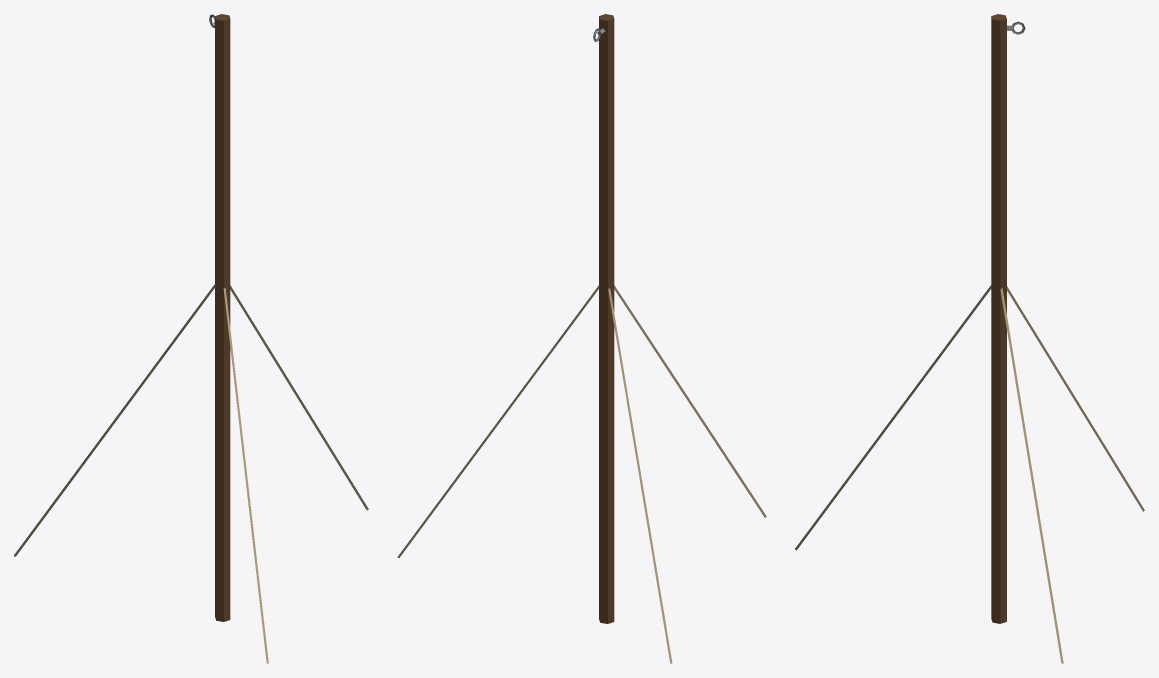
The model's file is string_pole.glb.
The picture shows the model from 3 angles, left to right: view 1: azimuth 30°, elevation 25°; view 2: azimuth 150°, elevation 25°; view 3: azimuth 270°, elevation 25°; orthographic projection.
Visible parts, largest first — view 1: string_pole; view 2: string_pole; view 3: string_pole.
Part boxes in pixels (x1,y1,x2,y2): string_pole: [14, 14, 368, 663]; string_pole: [397, 14, 766, 663]; string_pole: [795, 14, 1144, 663].
Size of the model in its own units: 1.53 by 2.8 by 1.47.
